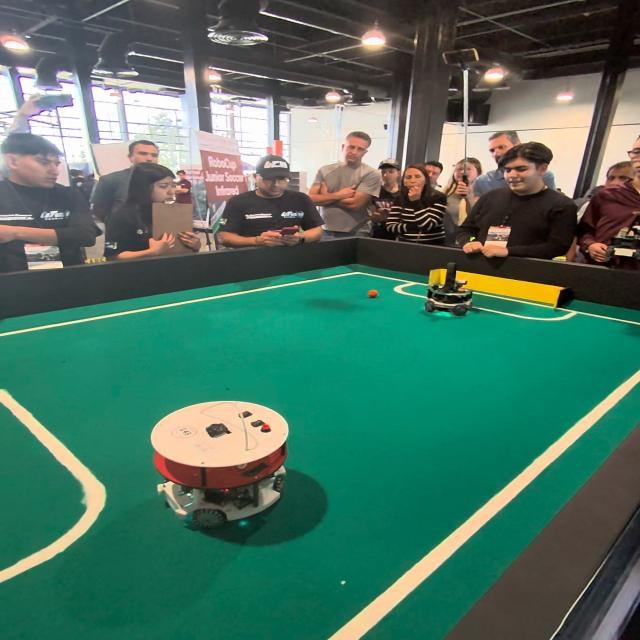Robot: (149, 391, 295, 546), (422, 262, 473, 322)
pelota: (367, 288, 378, 297)
